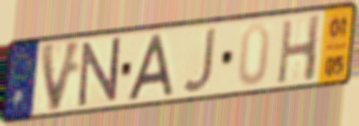0: (236, 21, 274, 89)
A: (124, 31, 176, 104)
H: (274, 12, 323, 86)
J: (180, 25, 219, 95)
N: (77, 35, 123, 110)
V: (38, 38, 85, 116)
